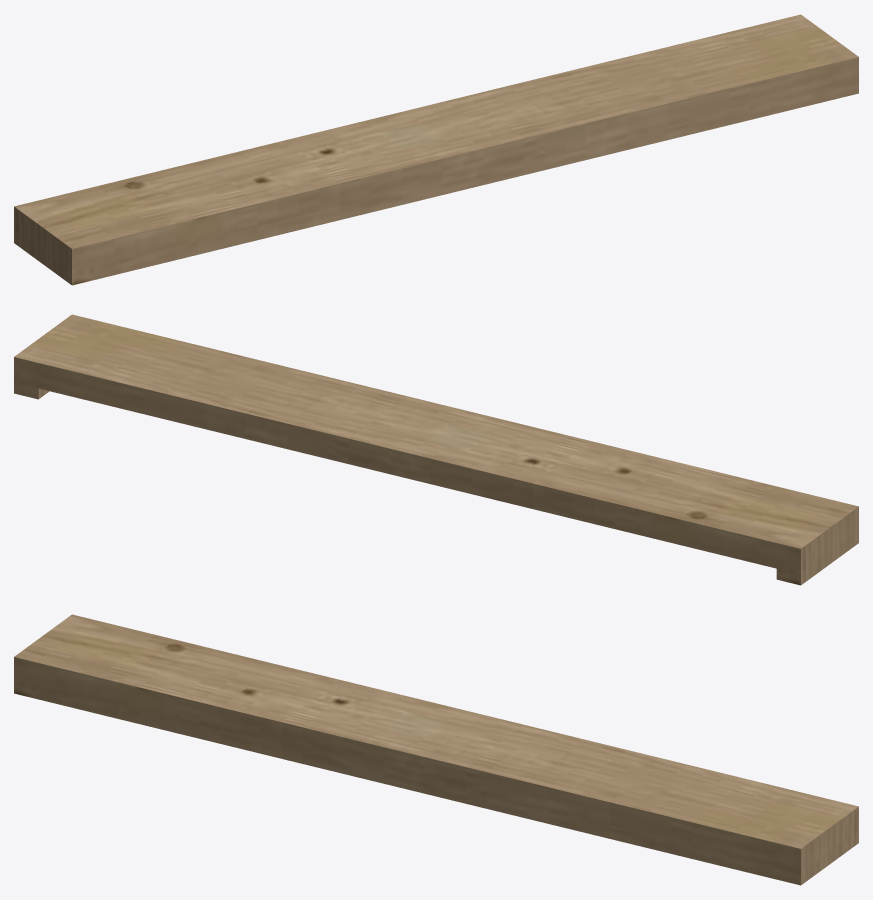
File: Joglo_part_247.fbx
The picture shows the model from 3 angles, top to bottom: view 1: azimuth 30°, elevation 25°; view 2: azimuth 150°, elevation 25°; view 3: azimuth 330°, elevation 25°; orthographic projection.
Parts seen in each view (by area): view 1: Mesh316_Wood___Pine_Grained_Horizontal_0.001; view 2: Mesh316_Wood___Pine_Grained_Horizontal_0.001; view 3: Mesh316_Wood___Pine_Grained_Horizontal_0.001.
Part boxes in pixels (left/top/right/bottom): Mesh316_Wood___Pine_Grained_Horizontal_0.001: left=14, top=14, right=858, bottom=285; Mesh316_Wood___Pine_Grained_Horizontal_0.001: left=14, top=314, right=858, bottom=585; Mesh316_Wood___Pine_Grained_Horizontal_0.001: left=14, top=614, right=858, bottom=885.
Bounding box in the file's own units: 35.43 × 1.57 × 4.53.
